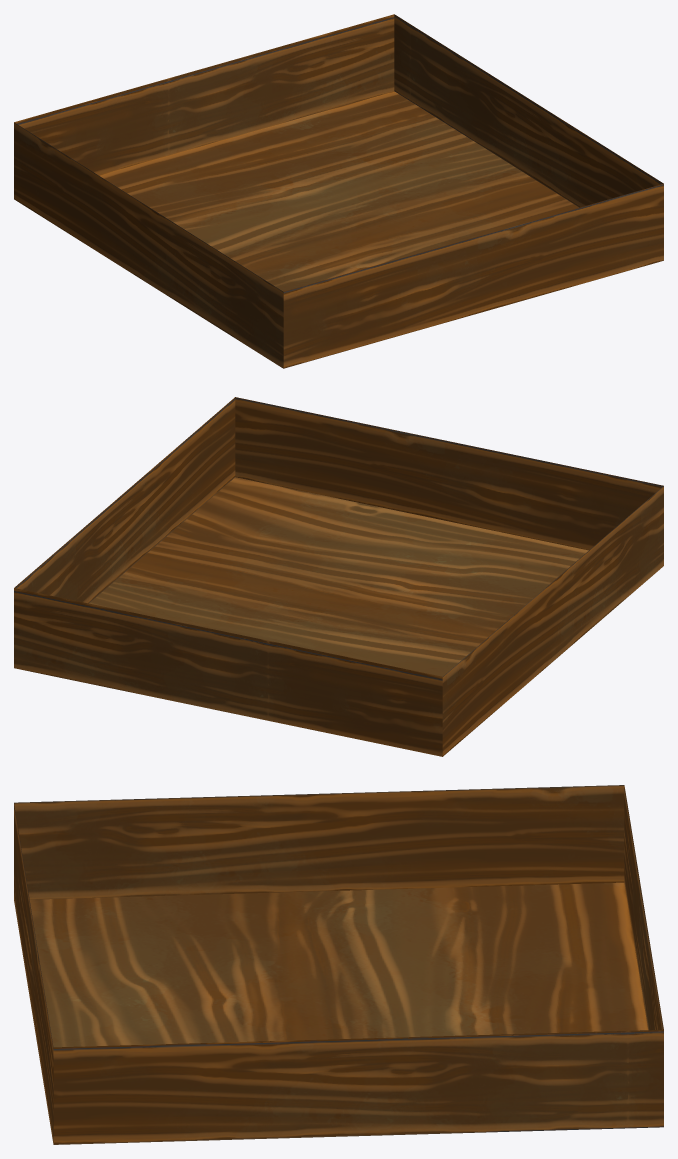
3 renders of one model, top to bottom at view 1: azimuth 30°, elevation 25°; view 2: azimuth 150°, elevation 25°; view 3: azimuth 270°, elevation 25°, orthographic. The views are drawn at different scales.
Visible parts, largest first — view 1: Cube.1499; view 2: Cube.1499; view 3: Cube.1499.
Part boxes in pixels (x1,y1,x2,y2): Cube.1499: (14, 14, 663, 368); Cube.1499: (14, 397, 663, 756); Cube.1499: (14, 785, 663, 1144).
Size of the model in its own units: 471 by 81.6 by 493.
1 material, 1 textured.
